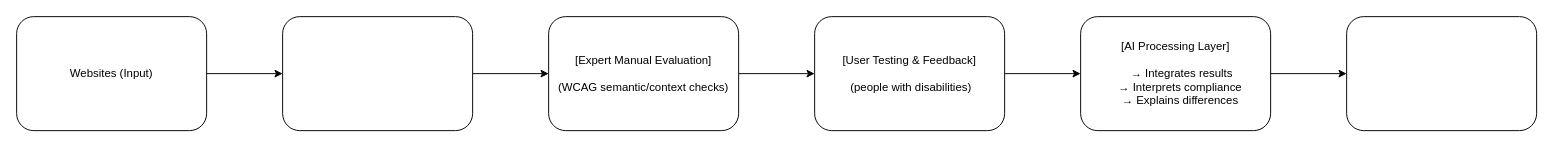
Image size: 1553x147. Some labels were removed from this diagram. The centre of each missing label's shape, as x and y in pixels:
[Automated Evaluation Tools] (WAVE, axe, SiteImprove): point 377,73
[Output Layer] (Accessibility Report, Compliance Scores, Actionable Insights): point 1441,73
